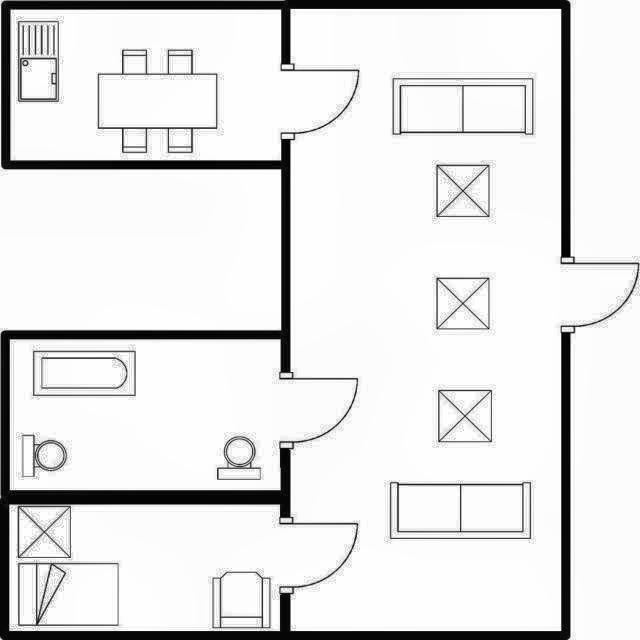room: (290, 9, 561, 631), (10, 339, 281, 490), (11, 9, 281, 160), (9, 504, 280, 631)
